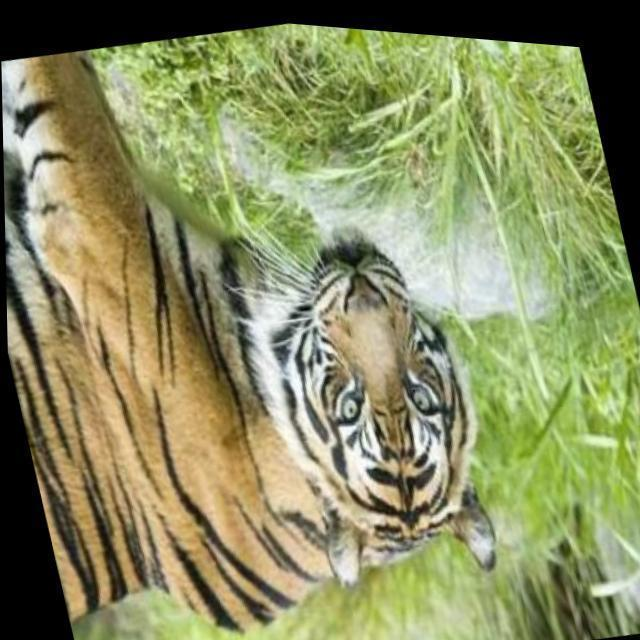tiger: (0, 50, 499, 636)
